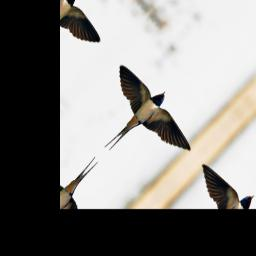Swallow: (72, 51, 205, 199)
